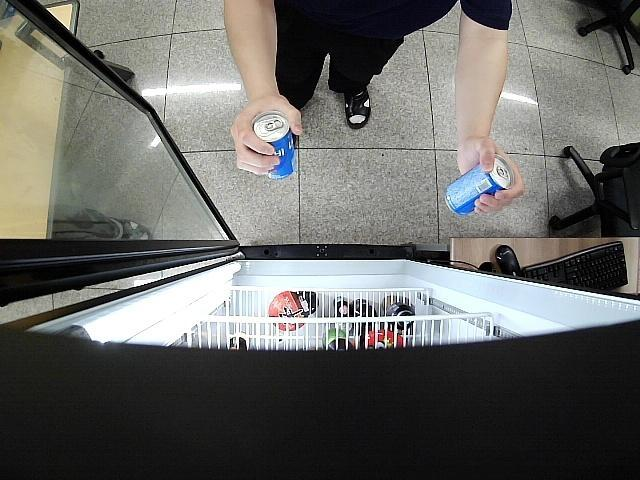15_letsbe: (444, 155, 514, 218), (254, 113, 298, 181)
